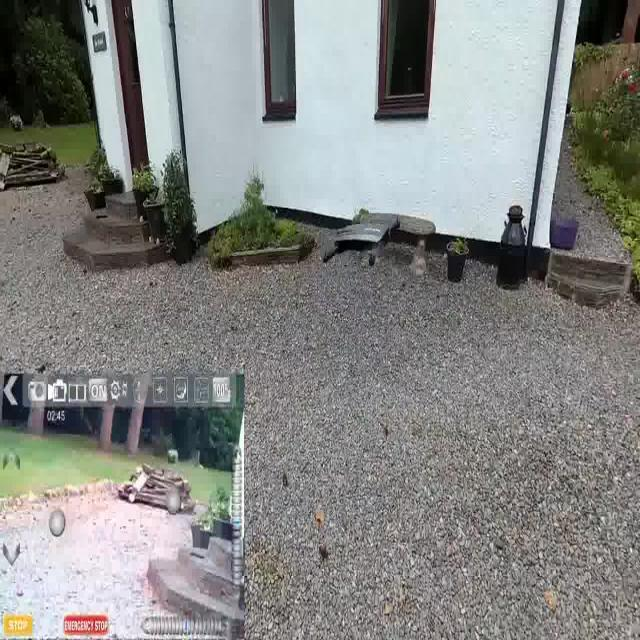drones: (306, 187, 406, 285)
